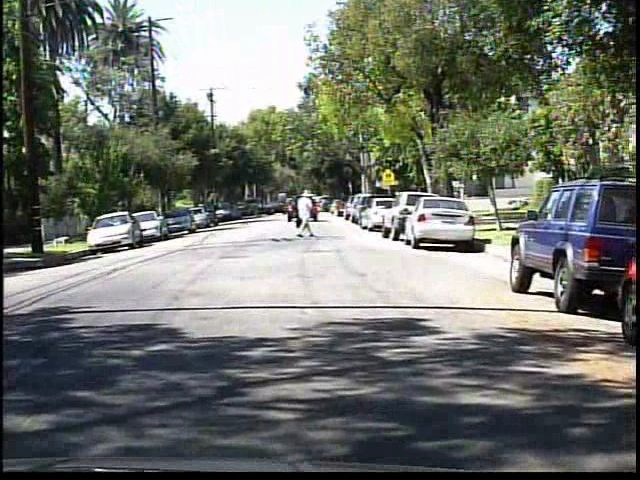person: (291, 189, 321, 241)
